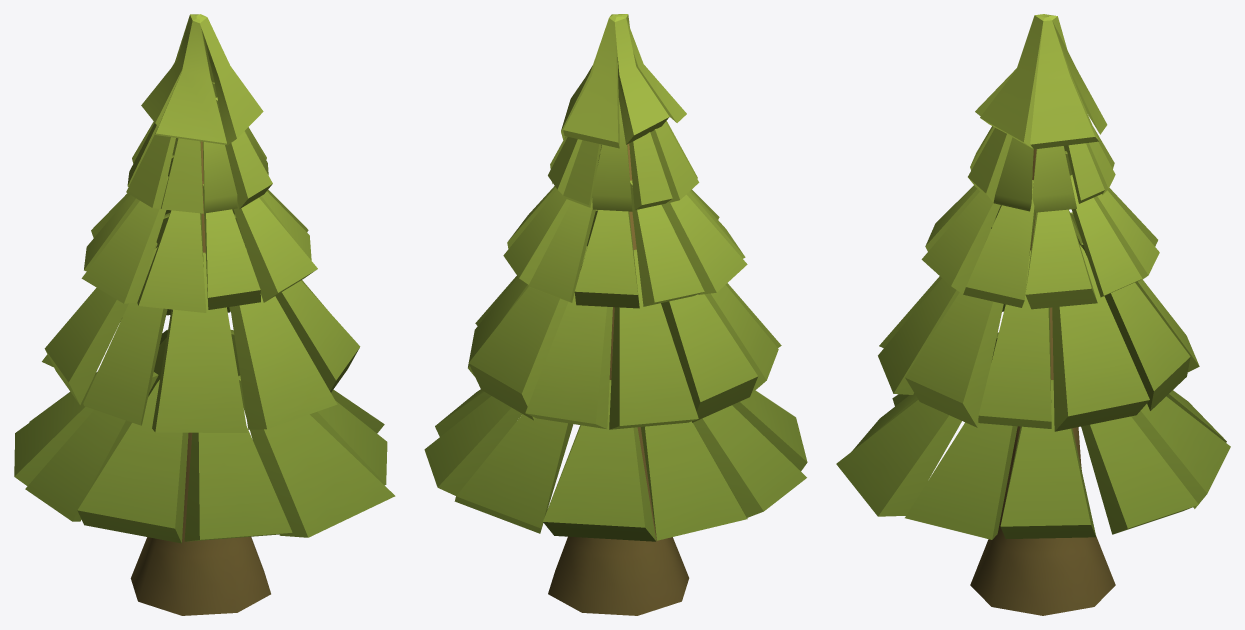
File: Pine_Tree001.fbx
The picture shows the model from 3 angles, left to right: view 1: azimuth 30°, elevation 25°; view 2: azimuth 150°, elevation 25°; view 3: azimuth 270°, elevation 25°; orthographic projection.
Visible parts, largest first — view 1: Cylinder.001; view 2: Cylinder.001; view 3: Cylinder.001.
Part boxes in pixels (x1=…): Cylinder.001: x1=14, y1=14, x2=395, y2=615; Cylinder.001: x1=424, y1=14, x2=807, y2=615; Cylinder.001: x1=836, y1=14, x2=1230, y2=615.
Bounding box in the file's own units: 378 × 638 × 401.
